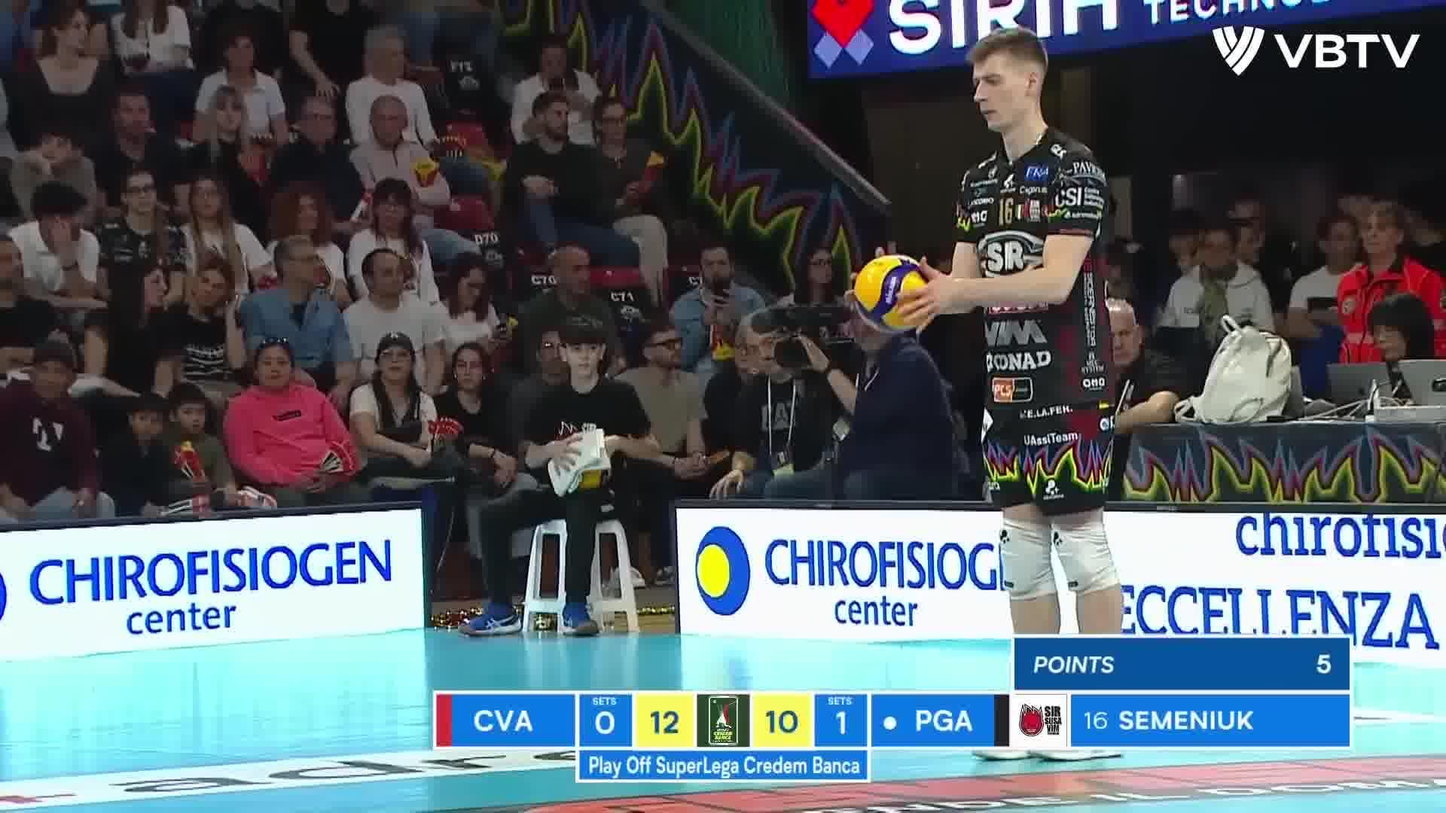balls: (848, 249, 940, 338)
